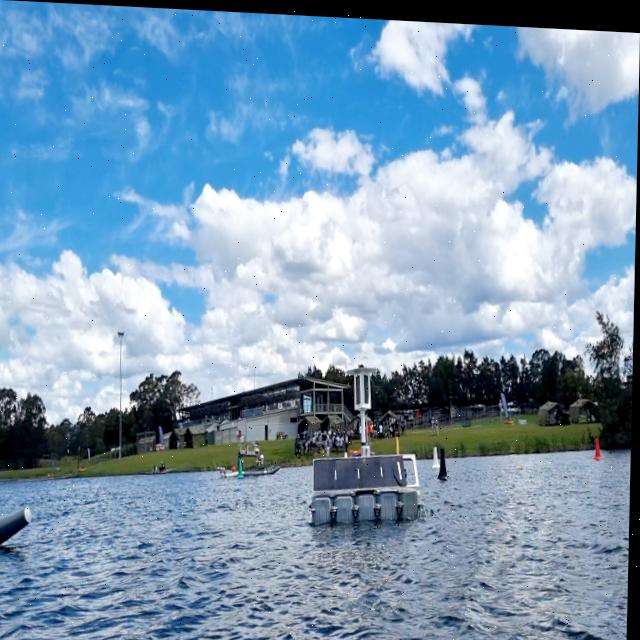led: (364, 369, 372, 401), (356, 371, 364, 401)
